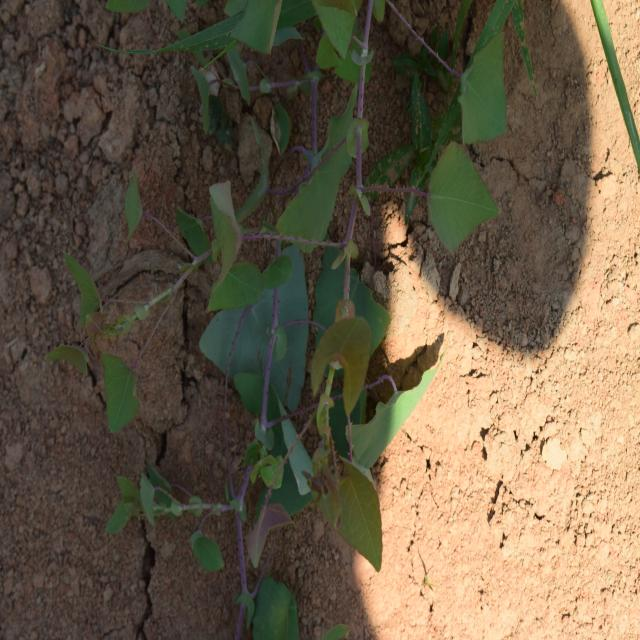Asiatic_Smartweed: (283, 292, 432, 557), (413, 36, 522, 273), (59, 254, 176, 436)
